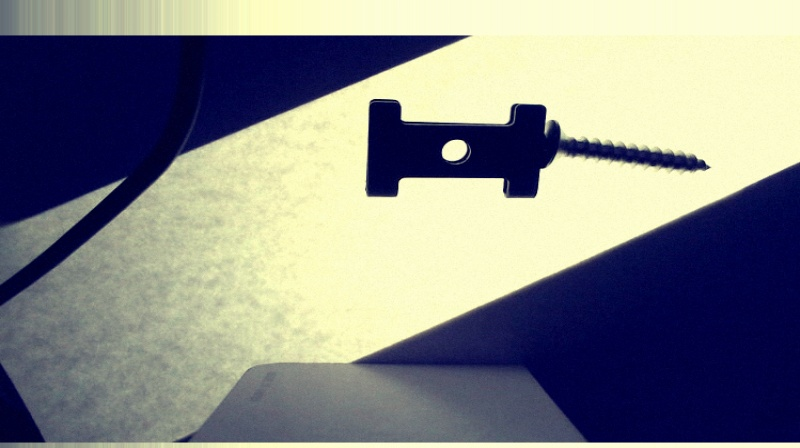O002: (364, 98, 545, 198)
S001: (544, 117, 710, 173)
